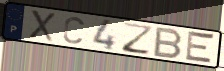4: (91, 18, 118, 52)
B: (151, 26, 184, 60)
C: (61, 15, 86, 45)
E: (183, 29, 216, 66)
X: (28, 8, 57, 43)
Z: (122, 21, 155, 57)
